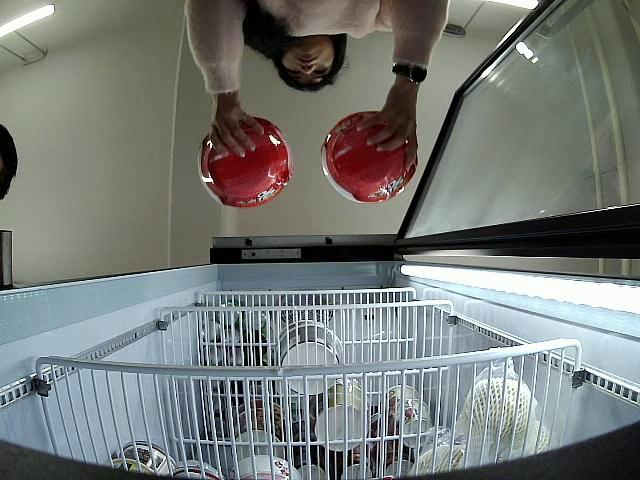00_hand: (357, 81, 419, 172), (209, 105, 265, 158)
10_wangTtukkeong: (198, 117, 293, 210), (322, 111, 418, 201)
